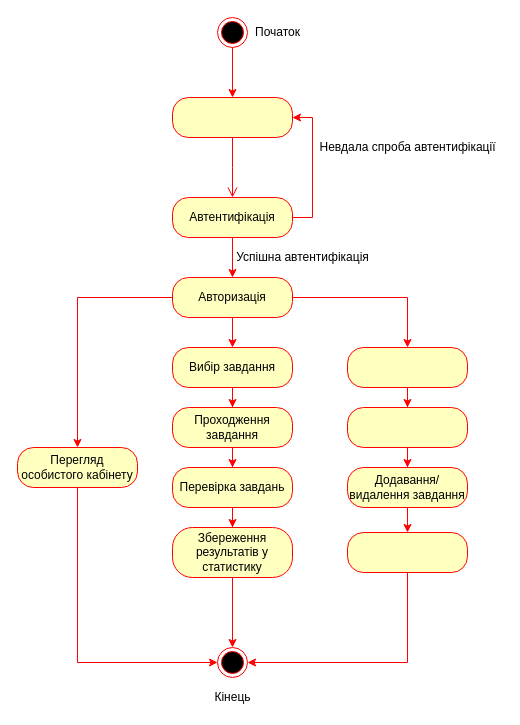
Some shapes in this 520 by 725 pixel diagram are drawn without their labels. Each missing label, with the box of its shape:
Вхід у систему: (172, 96, 292, 138)
Збереження завдання: (346, 532, 468, 572)
Редагування завдання: (346, 406, 468, 448)
Реєстрація користувача: (346, 346, 468, 388)
